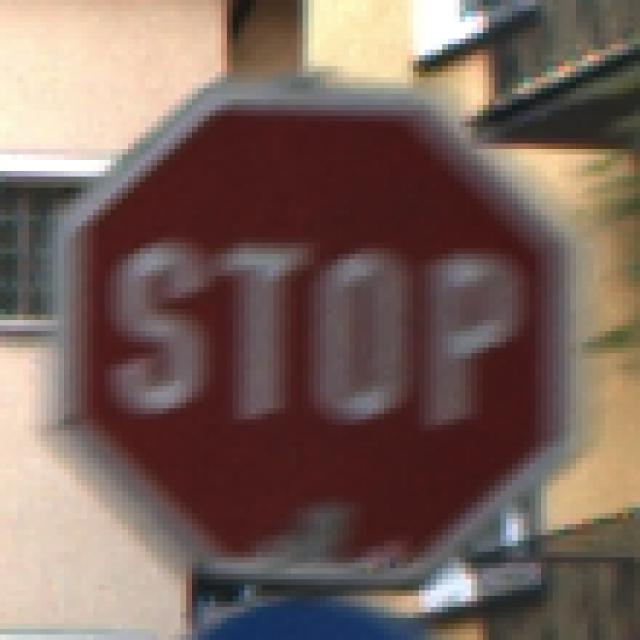STOP: (59, 62, 583, 586)
